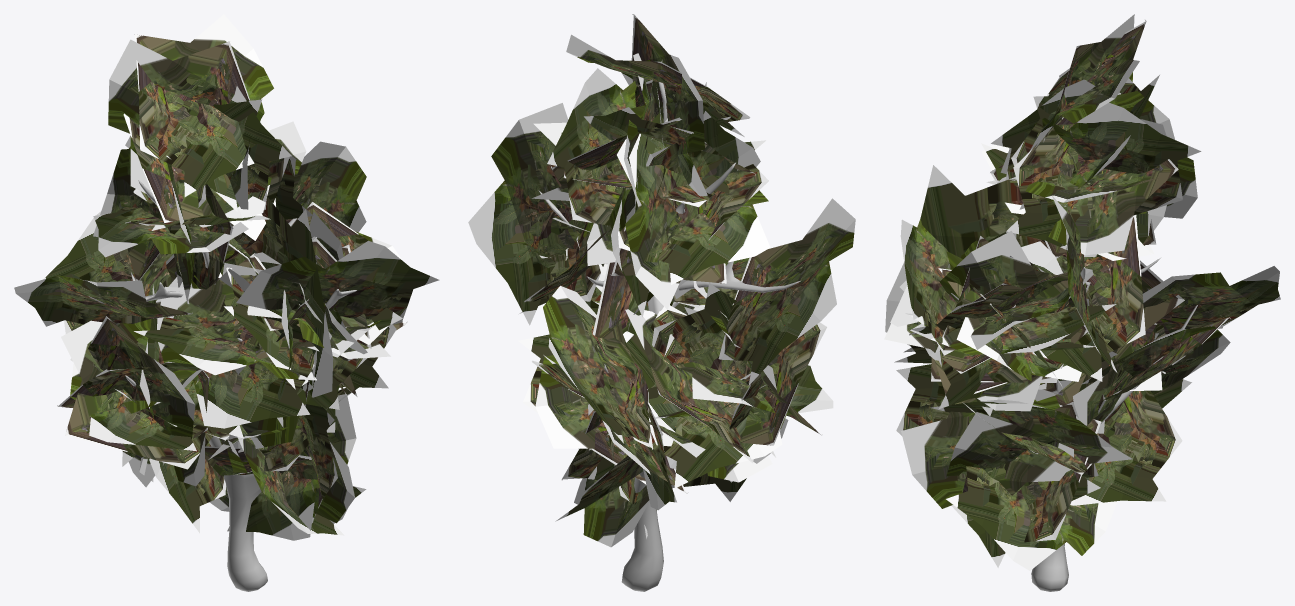
File: Derevo low poli.fbx
3 renders of one model, left to right at view 1: azimuth 30°, elevation 25°; view 2: azimuth 150°, elevation 25°; view 3: azimuth 270°, elevation 25°, orthographic. The views are drawn at different scales.
Visible parts, largest first — view 1: Derevo|Bush_Branch_qgphP2_atlas_Preview|Dupli|9, Derevo|Bush_Branch_qgphP2_atlas_Preview|Dupli|54, Derevo|Bush_Branch_qgphP2_atlas_Preview|Dupli|24, Derevo|Bush_Branch_qgphP2_atlas_Preview|Dupli|8, Bush_Branch_qgphP2_atlas_Preview, Derevo|Bush_Branch_qgphP2_atlas_Preview|Dupli|46, Derevo|Bush_Branch_qgphP2_atlas_Preview|Dupli|3, Derevo|Bush_Branch_qgphP2_atlas_Preview|Dupli|45, Derevo|Bush_Branch_qgphP2_atlas_Preview|Dupli|5, Derevo, Derevo|Bush_Branch_qgphP2_atlas_Preview|Dupli|49, Derevo|Bush_Branch_qgphP2_atlas_Preview|Dupli|12 (+34 smaller); view 2: Derevo|Bush_Branch_qgphP2_atlas_Preview|Dupli|5, Derevo|Bush_Branch_qgphP2_atlas_Preview|Dupli|3, Derevo|Bush_Branch_qgphP2_atlas_Preview|Dupli|29, Derevo|Bush_Branch_qgphP2_atlas_Preview|Dupli|30, Derevo|Bush_Branch_qgphP2_atlas_Preview|Dupli|41, Derevo|Bush_Branch_qgphP2_atlas_Preview|Dupli|12, Derevo, Derevo|Bush_Branch_qgphP2_atlas_Preview|Dupli|8, Derevo|Bush_Branch_qgphP2_atlas_Preview|Dupli|57, Derevo|Bush_Branch_qgphP2_atlas_Preview|Dupli|56, Derevo|Bush_Branch_qgphP2_atlas_Preview|Dupli|58, Derevo|Bush_Branch_qgphP2_atlas_Preview|Dupli|59 (+26 smaller); view 3: Bush_Branch_qgphP2_atlas_Preview, Derevo|Bush_Branch_qgphP2_atlas_Preview|Dupli|47, Derevo|Bush_Branch_qgphP2_atlas_Preview|Dupli|25, Derevo|Bush_Branch_qgphP2_atlas_Preview|Dupli|41, Derevo|Bush_Branch_qgphP2_atlas_Preview|Dupli|4, Derevo|Bush_Branch_qgphP2_atlas_Preview|Dupli|29, Derevo|Bush_Branch_qgphP2_atlas_Preview|Dupli|39, Derevo|Bush_Branch_qgphP2_atlas_Preview|Dupli|38, Derevo|Bush_Branch_qgphP2_atlas_Preview|Dupli|53, Derevo|Bush_Branch_qgphP2_atlas_Preview|Dupli|52, Derevo|Bush_Branch_qgphP2_atlas_Preview|Dupli|33, Derevo|Bush_Branch_qgphP2_atlas_Preview|Dupli|24 (+28 smaller).
Part boxes in pixels (bbox=[...]): Derevo|Bush_Branch_qgphP2_atlas_Preview|Dupli|9: bbox=[134, 14, 273, 196]; Derevo|Bush_Branch_qgphP2_atlas_Preview|Dupli|54: bbox=[157, 253, 314, 428]; Derevo|Bush_Branch_qgphP2_atlas_Preview|Dupli|24: bbox=[236, 240, 439, 324]; Derevo|Bush_Branch_qgphP2_atlas_Preview|Dupli|8: bbox=[108, 39, 250, 193]; Bush_Branch_qgphP2_atlas_Preview: bbox=[166, 196, 333, 452]; Derevo|Bush_Branch_qgphP2_atlas_Preview|Dupli|46: bbox=[61, 319, 243, 469]; Derevo|Bush_Branch_qgphP2_atlas_Preview|Dupli|3: bbox=[14, 275, 192, 326]; Derevo|Bush_Branch_qgphP2_atlas_Preview|Dupli|45: bbox=[88, 316, 195, 438]; Derevo|Bush_Branch_qgphP2_atlas_Preview|Dupli|5: bbox=[286, 141, 366, 232]; Derevo: bbox=[88, 180, 356, 591]; Derevo|Bush_Branch_qgphP2_atlas_Preview|Dupli|49: bbox=[227, 394, 356, 540]; Derevo|Bush_Branch_qgphP2_atlas_Preview|Dupli|12: bbox=[93, 207, 248, 257]; Derevo|Bush_Branch_qgphP2_atlas_Preview|Dupli|5: bbox=[468, 103, 604, 325]; Derevo|Bush_Branch_qgphP2_atlas_Preview|Dupli|3: bbox=[718, 198, 855, 385]; Derevo|Bush_Branch_qgphP2_atlas_Preview|Dupli|29: bbox=[543, 285, 652, 449]; Derevo|Bush_Branch_qgphP2_atlas_Preview|Dupli|30: bbox=[617, 113, 728, 309]; Derevo|Bush_Branch_qgphP2_atlas_Preview|Dupli|41: bbox=[547, 68, 636, 225]; Derevo|Bush_Branch_qgphP2_atlas_Preview|Dupli|12: bbox=[618, 190, 770, 284]; Derevo: bbox=[538, 82, 800, 591]; Derevo|Bush_Branch_qgphP2_atlas_Preview|Dupli|8: bbox=[631, 14, 707, 196]; Derevo|Bush_Branch_qgphP2_atlas_Preview|Dupli|57: bbox=[733, 322, 826, 445]; Derevo|Bush_Branch_qgphP2_atlas_Preview|Dupli|56: bbox=[625, 309, 775, 463]; Derevo|Bush_Branch_qgphP2_atlas_Preview|Dupli|58: bbox=[652, 283, 786, 482]; Derevo|Bush_Branch_qgphP2_atlas_Preview|Dupli|59: bbox=[633, 401, 782, 488]; Bush_Branch_qgphP2_atlas_Preview: bbox=[885, 165, 1184, 433]; Derevo|Bush_Branch_qgphP2_atlas_Preview|Dupli|47: bbox=[946, 466, 1117, 570]; Derevo|Bush_Branch_qgphP2_atlas_Preview|Dupli|25: bbox=[1070, 390, 1182, 505]; Derevo|Bush_Branch_qgphP2_atlas_Preview|Dupli|41: bbox=[1000, 102, 1201, 215]; Derevo|Bush_Branch_qgphP2_atlas_Preview|Dupli|4: bbox=[1032, 215, 1145, 381]; Derevo|Bush_Branch_qgphP2_atlas_Preview|Dupli|29: bbox=[1142, 266, 1280, 334]; Derevo|Bush_Branch_qgphP2_atlas_Preview|Dupli|39: bbox=[1047, 93, 1178, 255]; Derevo|Bush_Branch_qgphP2_atlas_Preview|Dupli|38: bbox=[1006, 117, 1146, 256]; Derevo|Bush_Branch_qgphP2_atlas_Preview|Dupli|53: bbox=[896, 364, 1073, 495]; Derevo|Bush_Branch_qgphP2_atlas_Preview|Dupli|52: bbox=[901, 398, 1100, 508]; Derevo|Bush_Branch_qgphP2_atlas_Preview|Dupli|33: bbox=[925, 231, 1090, 415]; Derevo|Bush_Branch_qgphP2_atlas_Preview|Dupli|24: bbox=[900, 219, 956, 355].
Bounding box in the file's own units: 1946 × 2899 × 1931.
